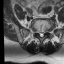CCS_stenosis: (40, 30, 42, 39)
LFS_stenosis: (44, 29, 46, 35)
LLS_normal: (42, 30, 44, 38)
RFS_stenosis: (37, 29, 38, 34)
RLS_normal: (38, 30, 40, 37)
